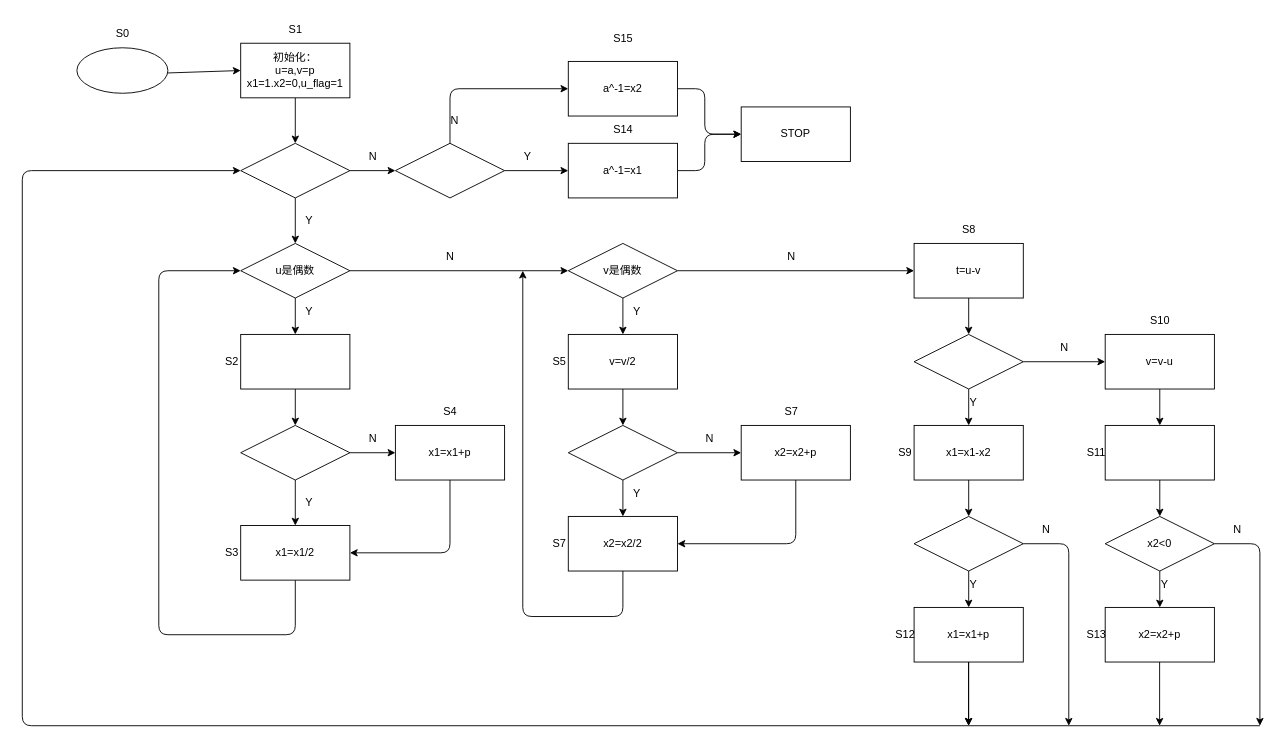
Some shapes in this 1283 by 749 pixel diagram are drawn without their labels. The centre of each missing label's shape, as x and y in pixels:
idle: [122,70]
t>=0: [968,361]
u=1: [449,170]
u=u/2: [295,361]
u≠1 && v≠1: [295,170]
x1<0: [968,543]
X1是偶数: [295,452]
x2=x2-x1: [1159,452]
x2是偶数: [622,452]
